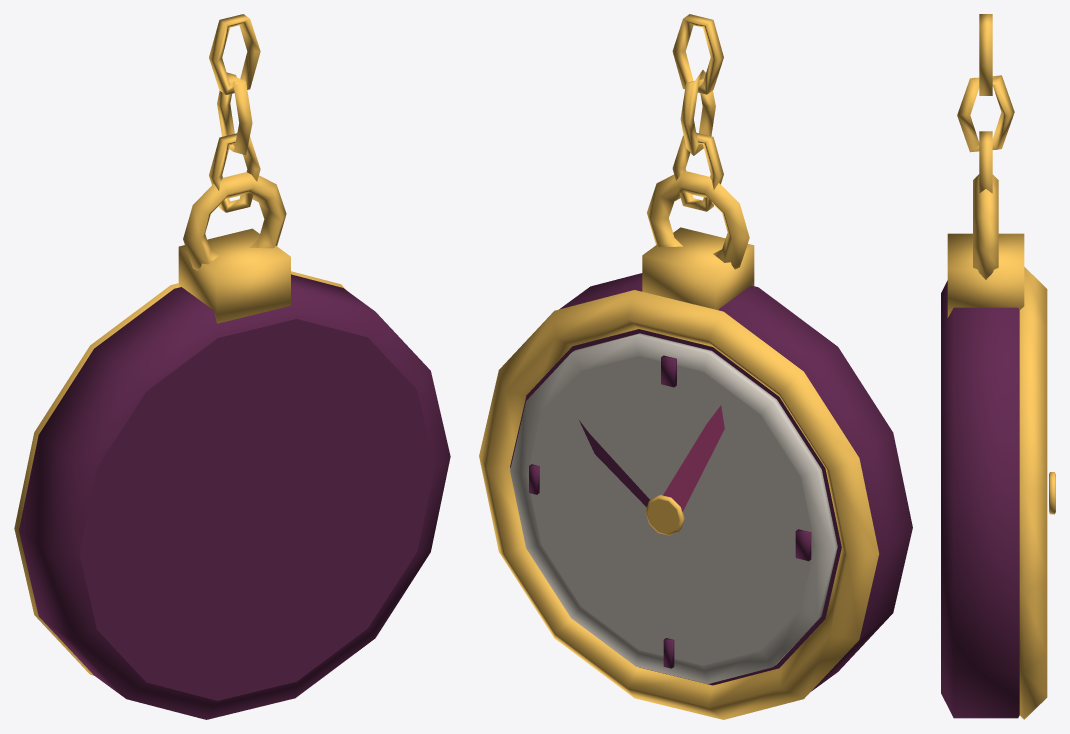
Rendered from toy-pendulum-lod1.glb.
3 views of the same model, side by side, from view 1: azimuth 30°, elevation 25°; view 2: azimuth 150°, elevation 25°; view 3: azimuth 270°, elevation 25° (orthographic).
Parts seen in each view (by area): view 1: toy_pendulum; view 2: toy_pendulum; view 3: toy_pendulum.
Part boxes in pixels (bbox=[...]): toy_pendulum: bbox=[14, 14, 450, 719]; toy_pendulum: bbox=[479, 14, 912, 719]; toy_pendulum: bbox=[941, 14, 1055, 719].
Size of the model in its own units: 0.544 by 0.8777 by 0.1345.
